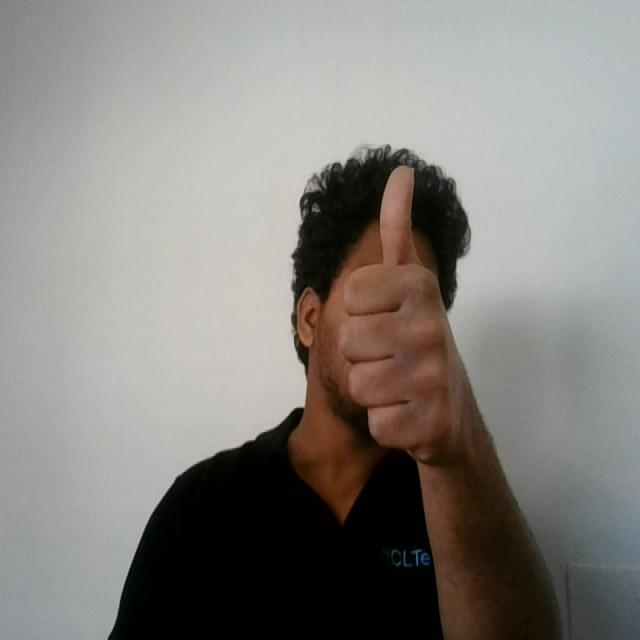Yes: (333, 155, 486, 481)
